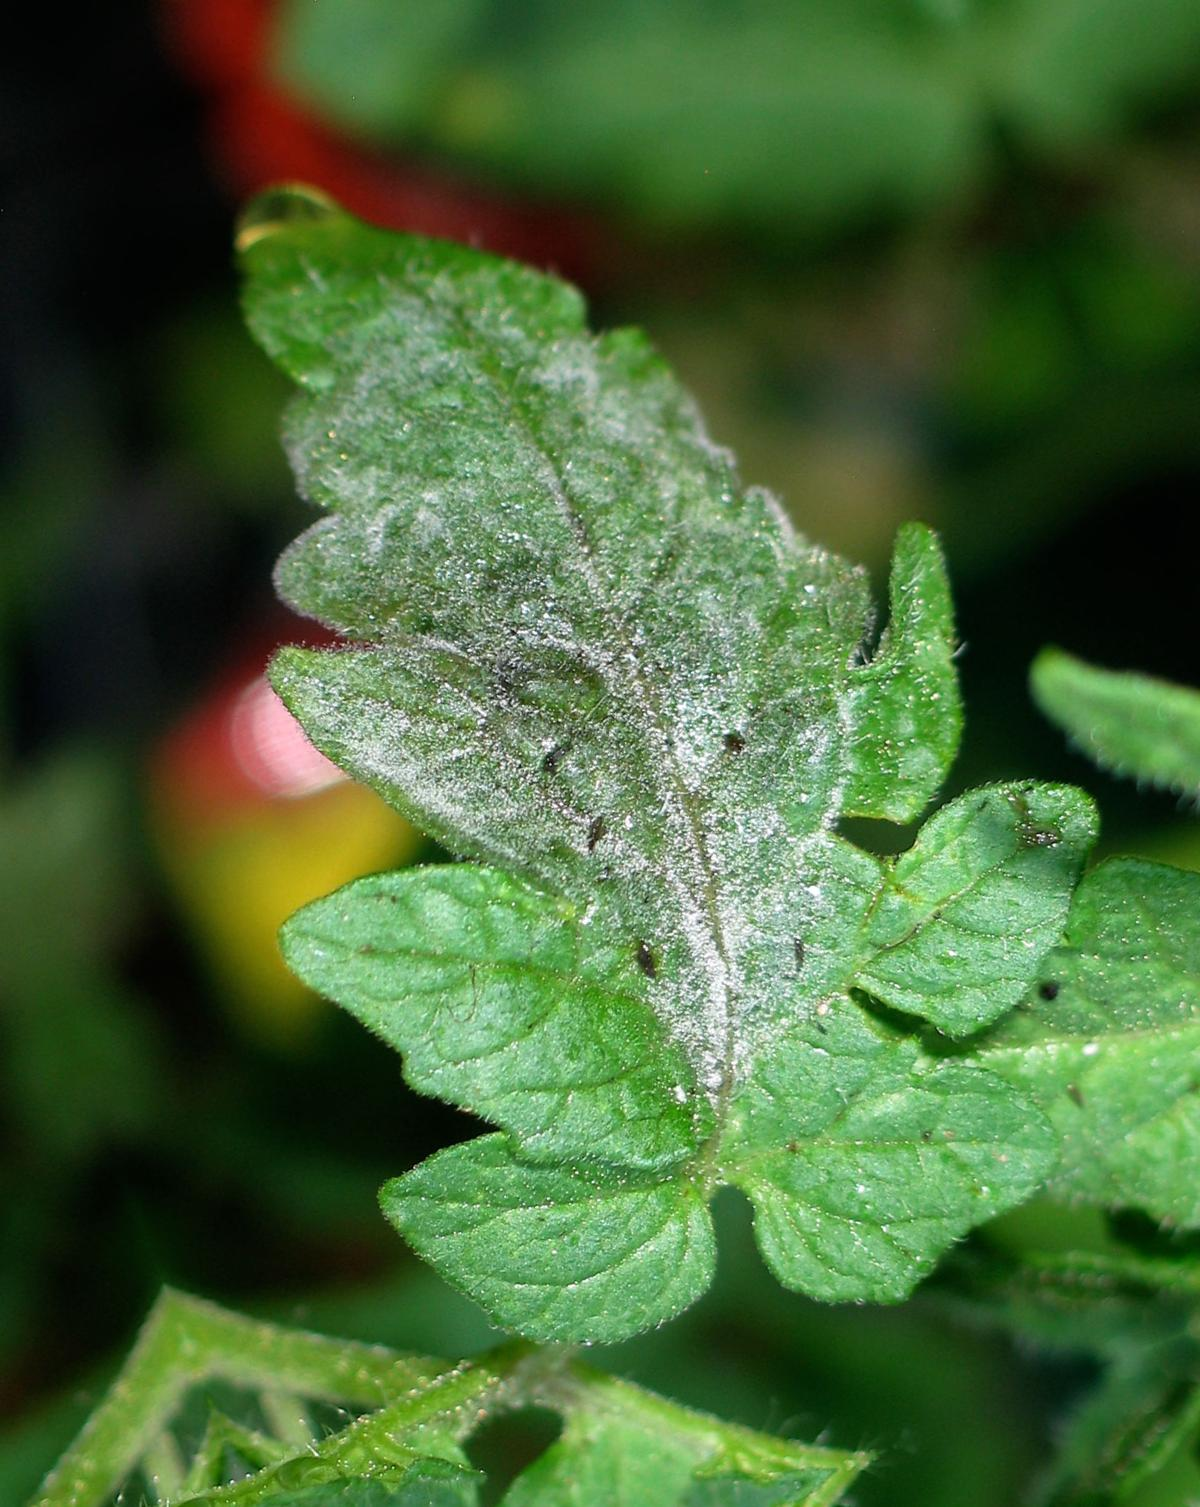Tomato leaf late blight: (24, 0, 1200, 1462)
